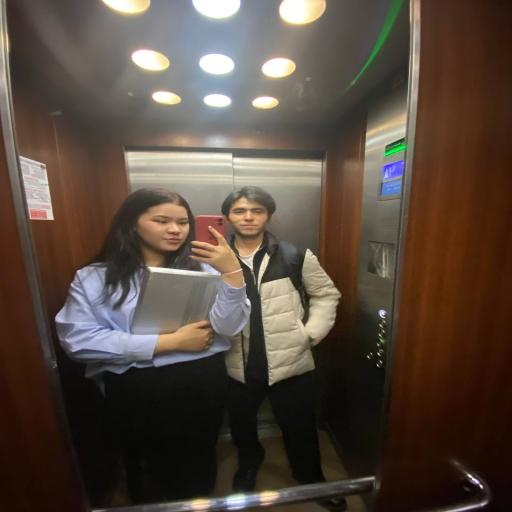crosswalk: (1, 0, 510, 510)
glass_wall: (131, 267, 220, 334)
people: (196, 216, 226, 245)
